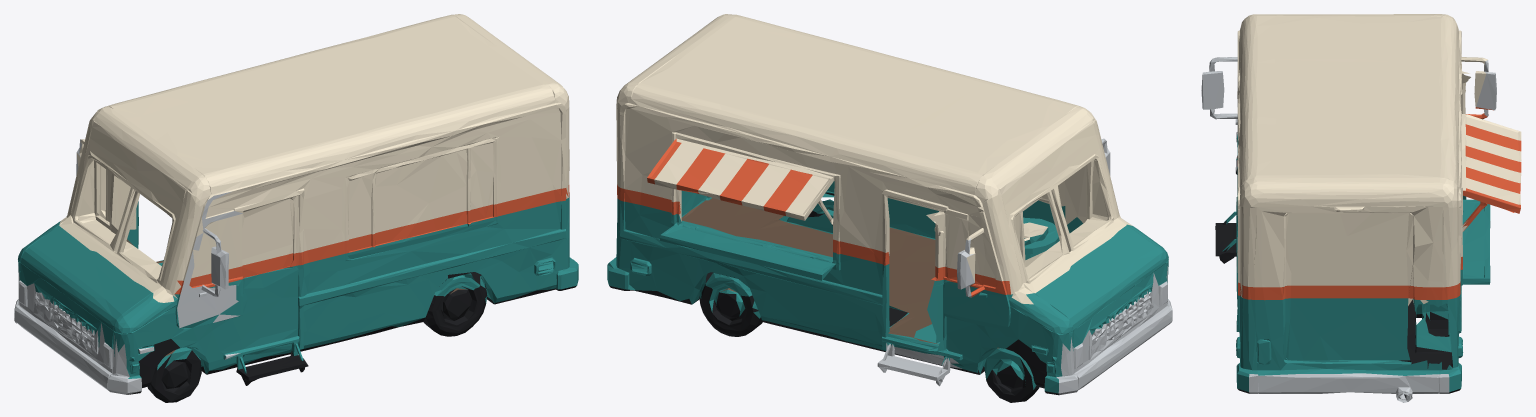
Rendered from LittleFlame.obj.
3 views of the same model, side by side, from view 1: azimuth 30°, elevation 25°; view 2: azimuth 150°, elevation 25°; view 3: azimuth 270°, elevation 25° (orthographic).
Parts seen in each view (by area): view 1: LF_Cream, LF_Teal, LF_Inner, LF_Chrome, LF_Tyre, LF_Coral, LF_InnerLow; view 2: LF_Cream, LF_Teal, LF_Inner, LF_Floor, LF_Chrome, LF_Coral, LF_InnerLow, LF_Tyre; view 3: LF_Cream, LF_Teal, LF_Chrome, LF_Coral, LF_Tyre.
Boxes of the visible parts, <box> form: LF_Cream: <box>76,14,569,280</box>; LF_Teal: <box>18,195,578,378</box>; LF_Inner: <box>59,121,568,302</box>; LF_Chrome: <box>14,139,242,394</box>; LF_Tyre: <box>128,272,576,402</box>; LF_Coral: <box>174,185,569,294</box>; LF_InnerLow: <box>127,199,568,369</box>; LF_Cream: <box>616,14,1096,284</box>; LF_Teal: <box>607,191,1168,393</box>; LF_Inner: <box>679,120,1132,304</box>; LF_Floor: <box>681,198,999,348</box>; LF_Chrome: <box>877,138,1172,395</box>; LF_Coral: <box>617,139,1010,297</box>; LF_InnerLow: <box>680,181,1082,368</box>; LF_Tyre: <box>609,192,1058,402</box>; LF_Cream: <box>1237,14,1521,287</box>; LF_Teal: <box>1222,119,1490,391</box>; LF_Chrome: <box>1201,57,1496,402</box>; LF_Coral: <box>1237,107,1521,300</box>; LF_Tyre: <box>1215,169,1460,398</box>.
Bounding box in the file's own units: 8.34 × 3.8 × 4.83.
